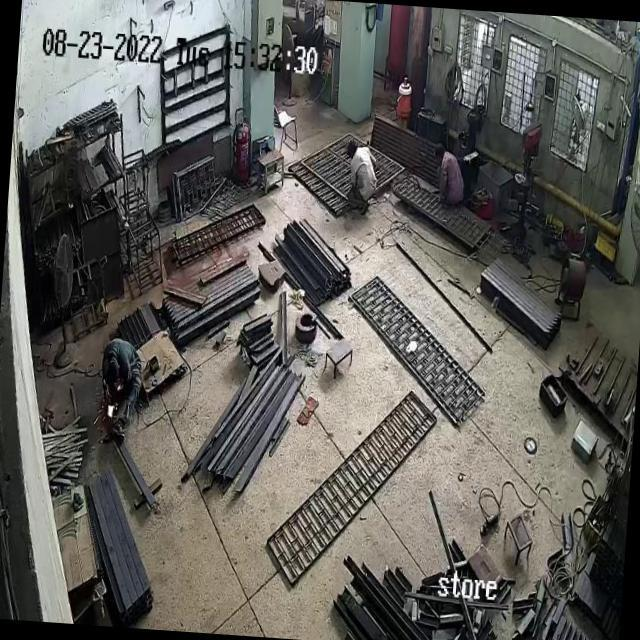person: (100, 332, 144, 426), (430, 128, 472, 224), (334, 145, 384, 218)
